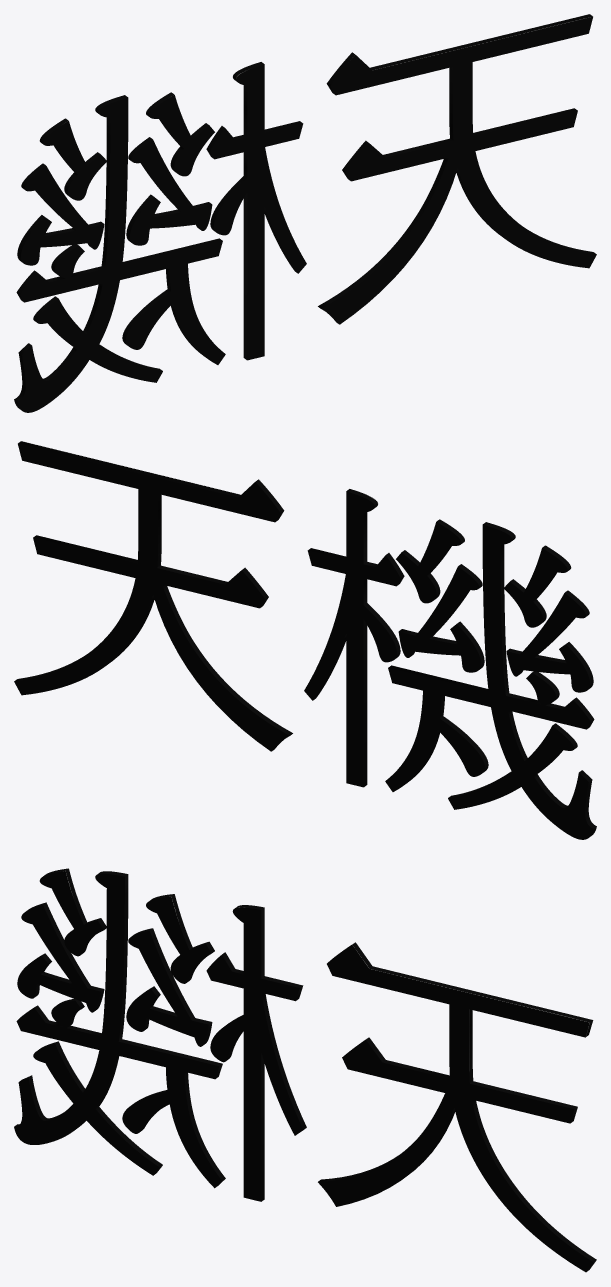
File: title.obj
The picture shows the model from 3 angles, top to bottom: view 1: azimuth 30°, elevation 25°; view 2: azimuth 150°, elevation 25°; view 3: azimuth 330°, elevation 25°; orthographic projection.
Visible parts, largest first — view 1: テキスト; view 2: テキスト; view 3: テキスト.
Boxes of the visible parts, x1=… form: テキスト: x1=14, y1=14, x2=596, y2=412; テキスト: x1=14, y1=441, x2=596, y2=839; テキスト: x1=14, y1=868, x2=596, y2=1272.
Size of the model in its own units: 19.23 by 9.27 by 0.2.
1 material, 1 textured.
